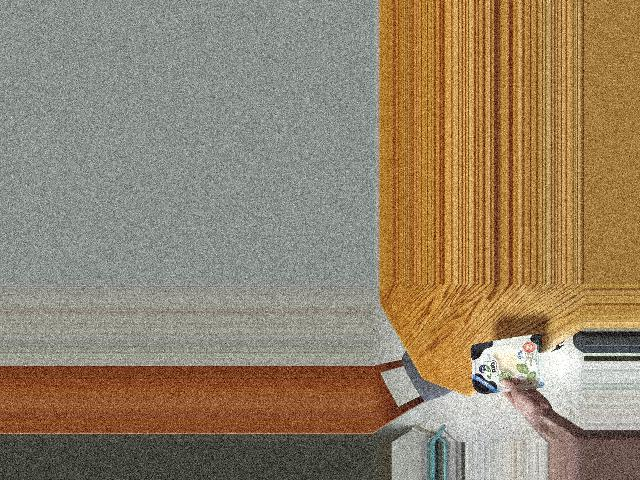cheese: (461, 334, 551, 397)
